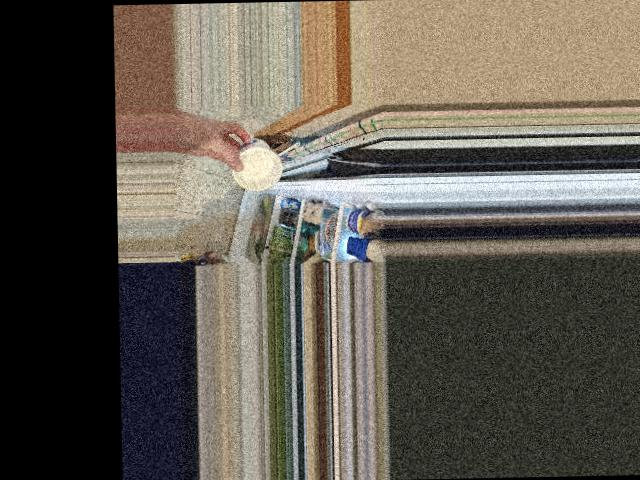cotage: (233, 132, 283, 187)
